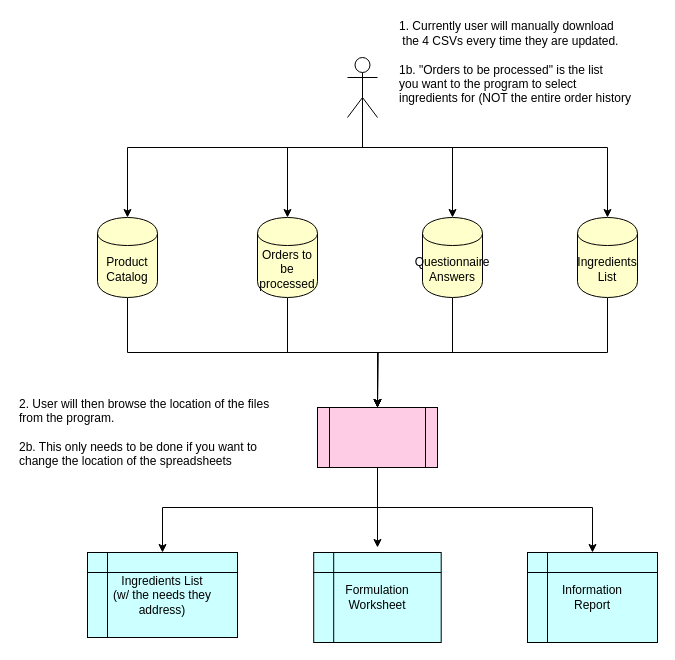
Some shapes in this 675 by 660 pixel diagram are drawn without their labels. The shapes that lost their labels are listed below. From the top down, each one's box as (x1, y1, x2, y2) in pixels, then its label:
(346, 56, 378, 118): Actor
(316, 406, 438, 468): Auto System UI
